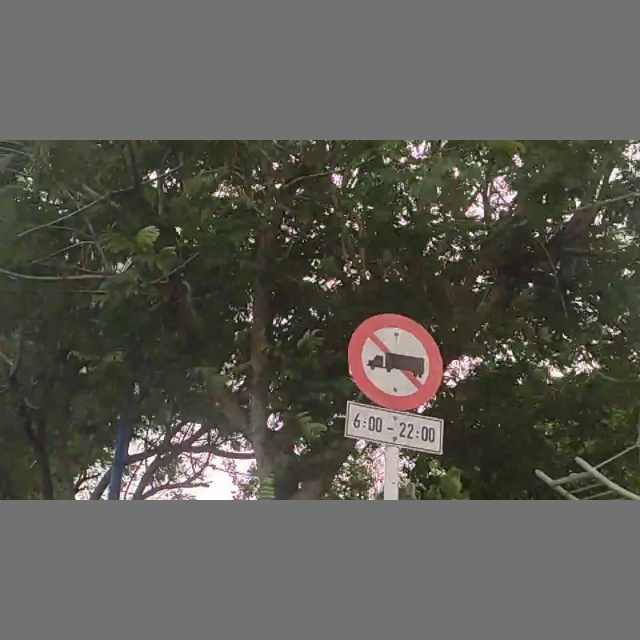B.8a: (343, 316, 445, 449)
